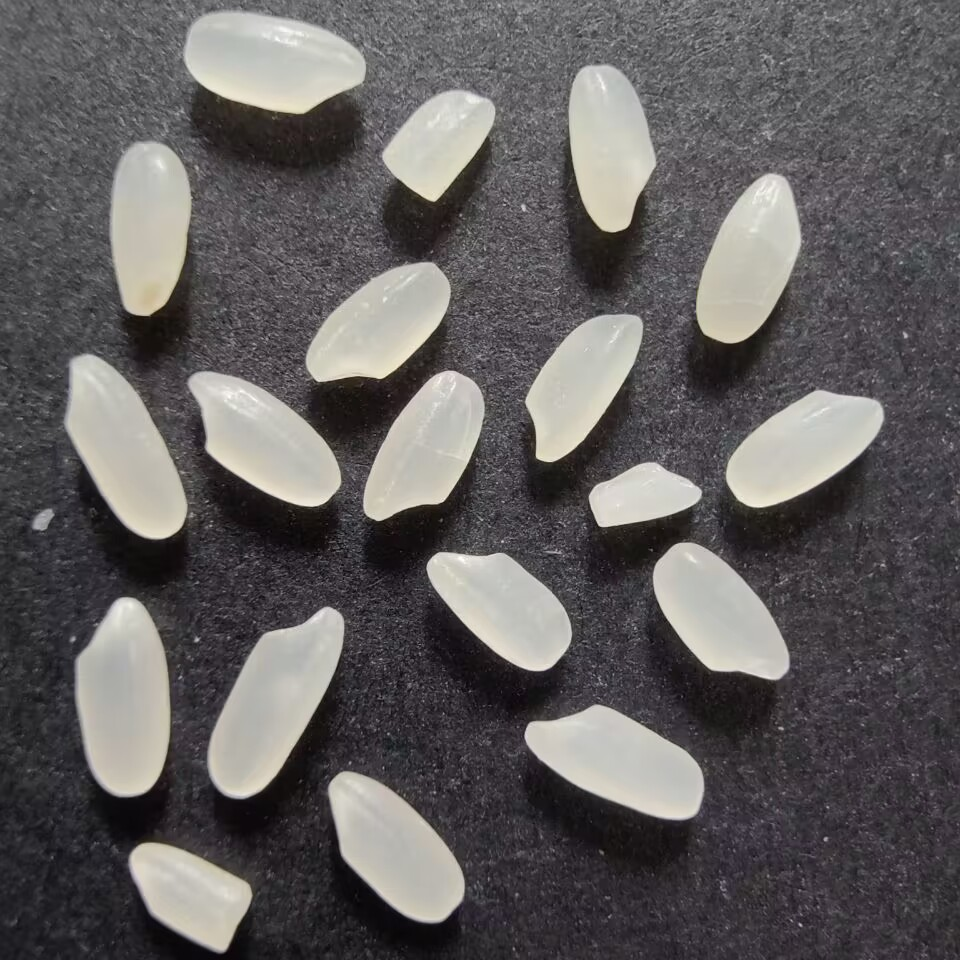broken: (122, 838, 258, 956), (378, 84, 501, 208), (581, 456, 706, 533)
rice: (206, 598, 348, 805), (54, 348, 191, 543), (316, 767, 473, 931), (180, 366, 348, 514), (516, 700, 714, 824), (67, 592, 174, 802), (176, 5, 374, 117), (651, 535, 795, 688), (720, 383, 892, 511), (297, 254, 454, 390), (690, 168, 809, 346), (359, 366, 490, 527), (421, 547, 578, 678), (519, 304, 646, 465), (561, 58, 663, 237), (106, 135, 195, 317)
